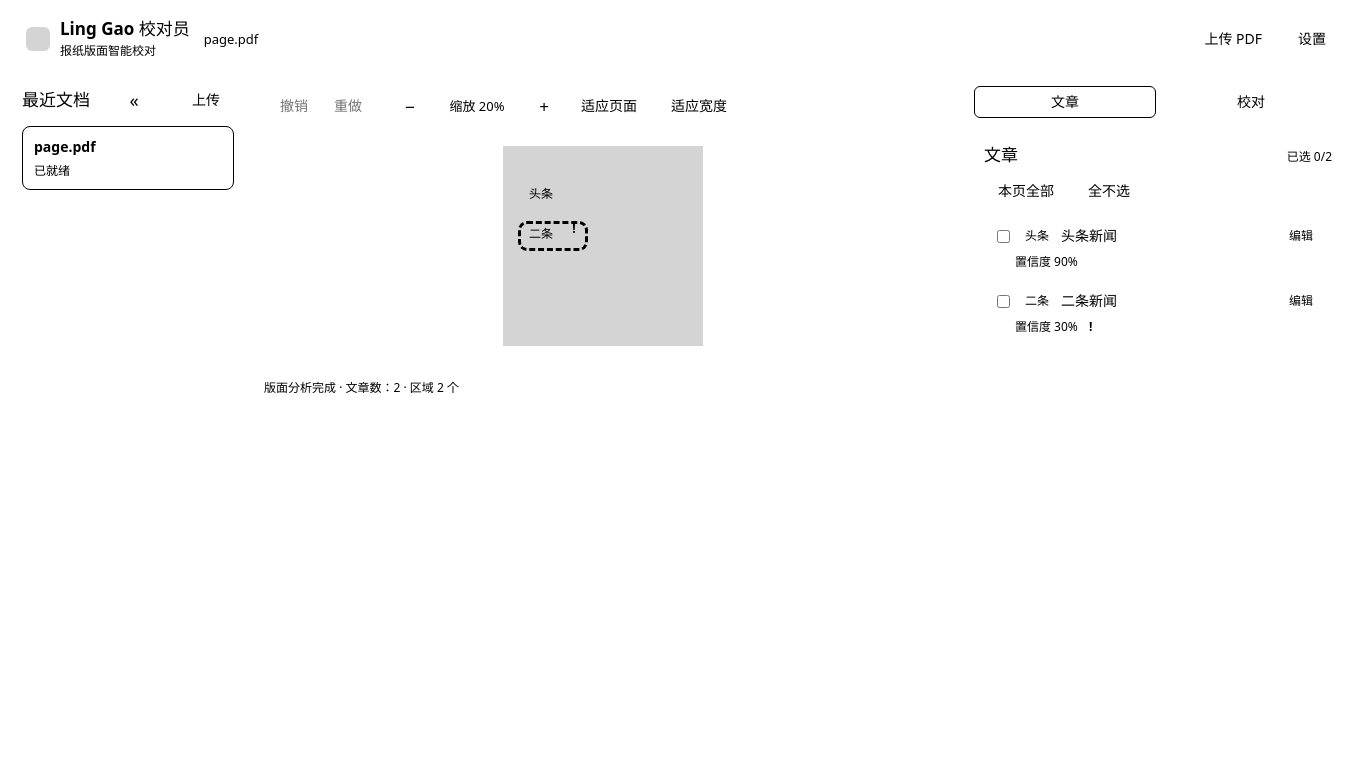
Test: App layout integration › splits with a straight cut and partitions line ids from the document lines
Earlier steps of the test are not shown.
Click the button "头条" at [541, 194], box left=529, top=185, right=553, bottom=202
(page scrolled)
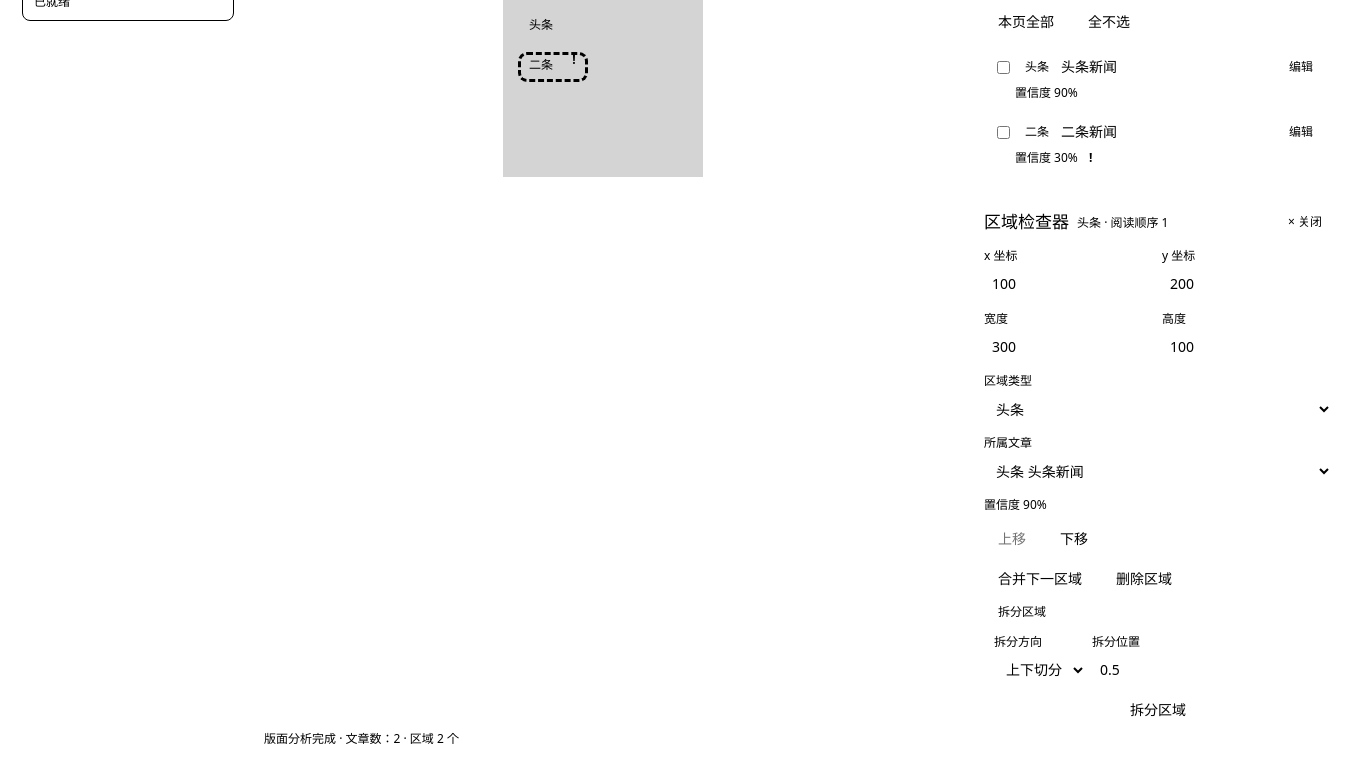
Click the button "拆分区域" at [1158, 710], box left=994, top=694, right=1322, bottom=726
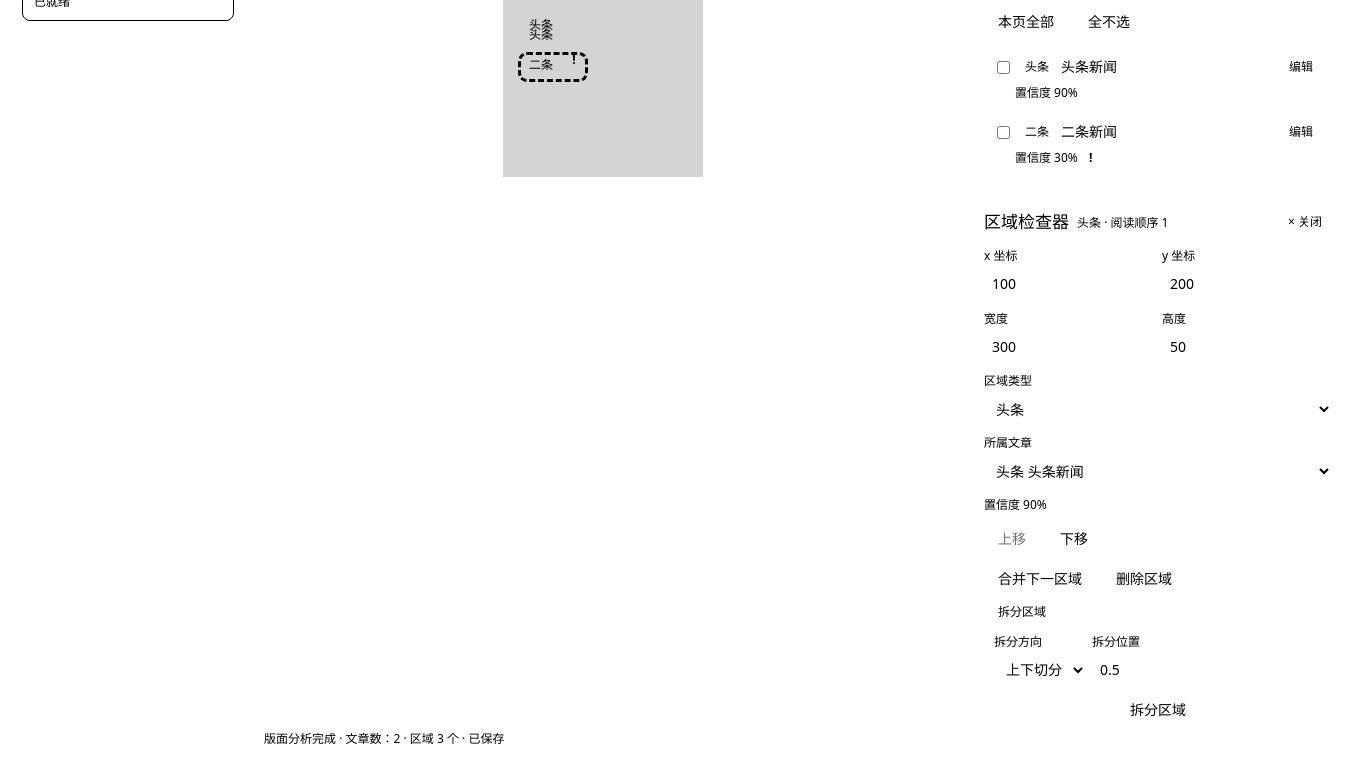
Expected: the 2nd button "头条" is shown, left=529, top=26, right=553, bottom=43
